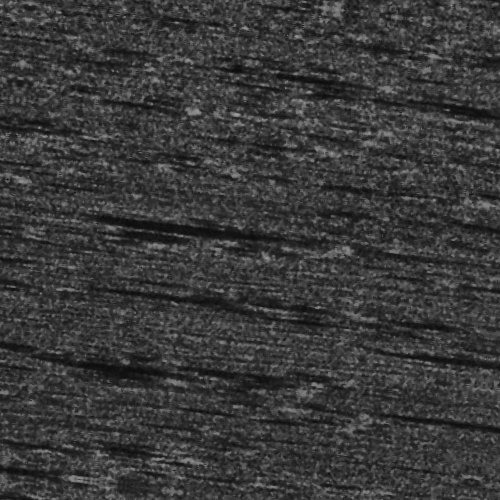object: (182, 457, 235, 466), (241, 302, 294, 307), (209, 378, 250, 383), (328, 298, 391, 301), (463, 78, 500, 83), (327, 229, 338, 242), (0, 156, 28, 159), (40, 304, 51, 311), (338, 66, 349, 73), (0, 418, 17, 421)
shadow: (177, 66, 343, 73), (93, 457, 208, 466), (62, 378, 229, 383), (132, 302, 268, 307), (404, 78, 490, 83), (306, 229, 332, 242), (434, 329, 500, 334), (0, 304, 46, 311), (258, 298, 359, 301), (409, 389, 500, 392), (0, 156, 12, 159)
